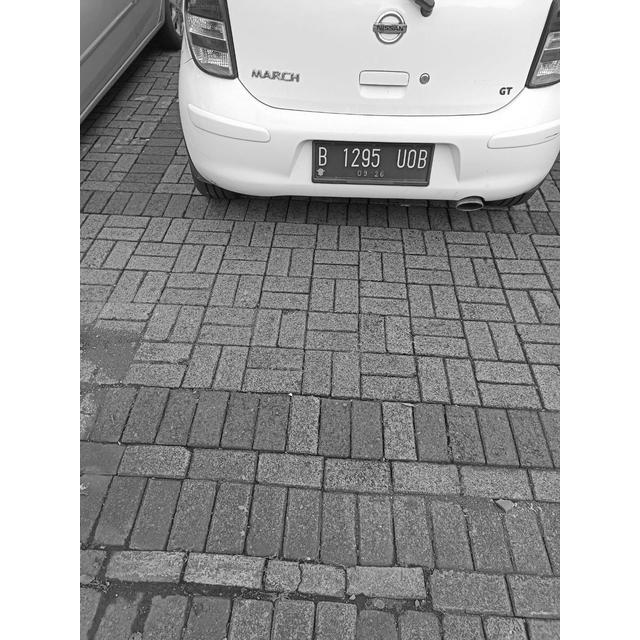license: (315, 143, 429, 185)
